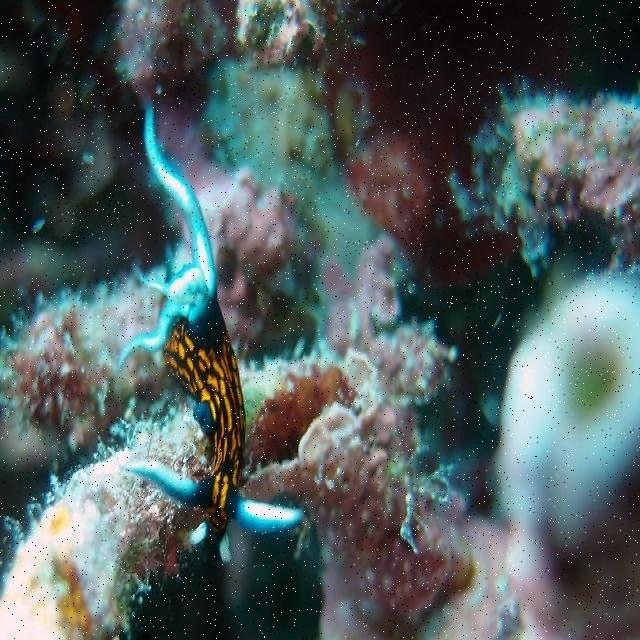fish: (110, 102, 306, 563)
reefs: (0, 0, 639, 639)
